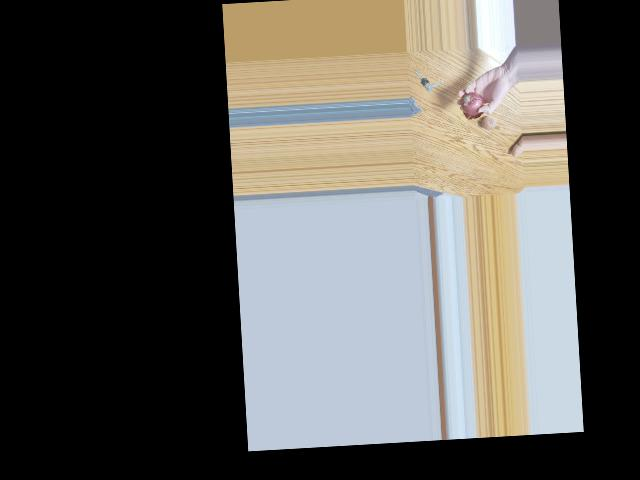onion: (460, 91, 483, 115)
